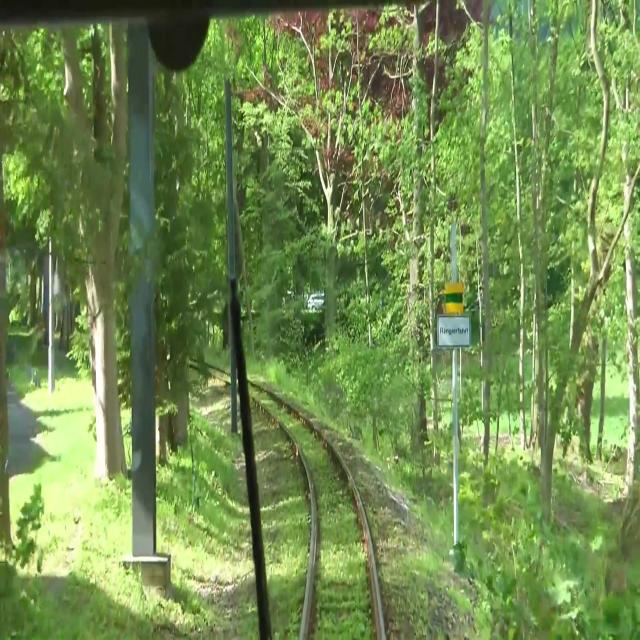rail-track: (257, 389, 380, 639)
